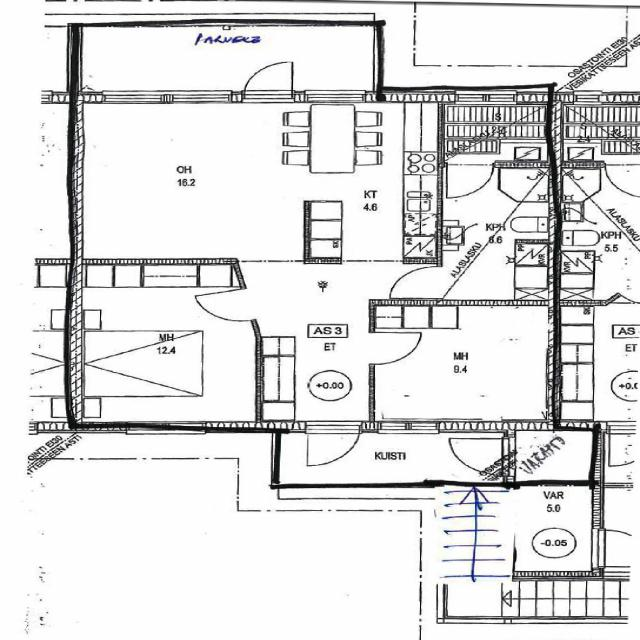door: (194, 288, 255, 327), (450, 439, 515, 475), (307, 422, 358, 467), (244, 59, 292, 103), (368, 332, 422, 365), (446, 162, 493, 199), (392, 266, 442, 298)
